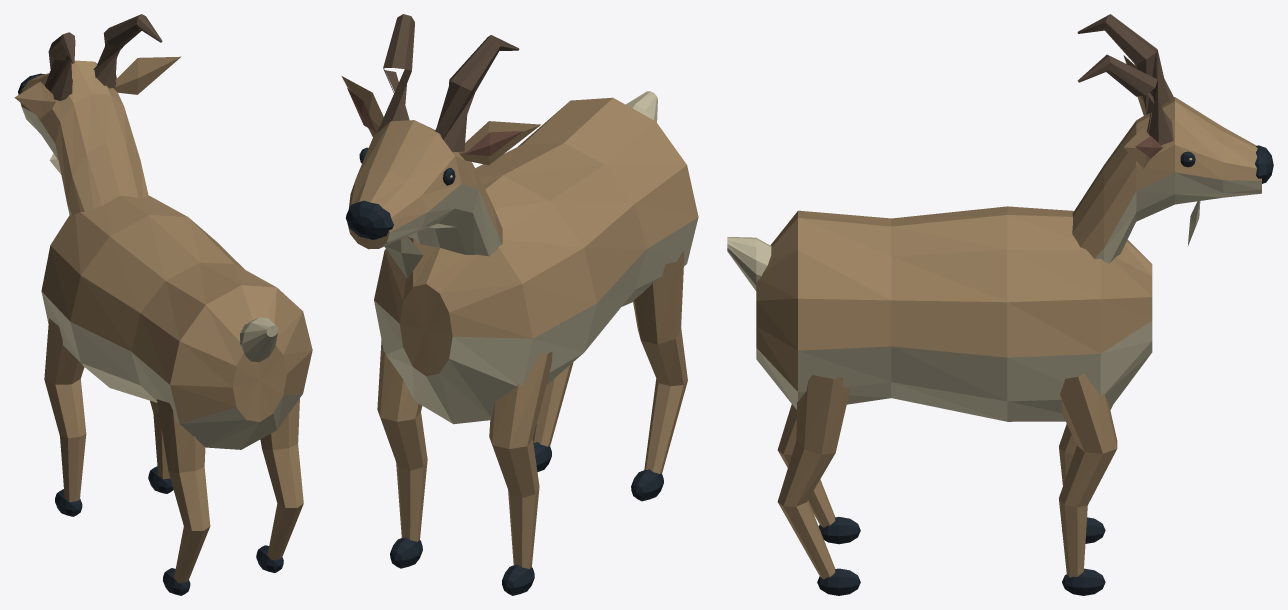
Rendered from goat.glb.
3 views of the same model, side by side, from view 1: azimuth 30°, elevation 25°; view 2: azimuth 150°, elevation 25°; view 3: azimuth 270°, elevation 25° (orthographic). The views are drawn at different scales.
Visible parts, largest first — view 1: Body, Head, Leg2, Leg0, Leg3, Tail, Leg1; view 2: Body, Head, Leg2, Leg0, Leg1, Leg3, Tail; view 3: Body, Head, Leg3, Leg1, Leg2, Tail, Leg0.
Part boxes in pixels (box(x1,y1,x2,y2)): Body: box(41, 195, 312, 449); Head: box(14, 14, 181, 215); Leg2: box(157, 399, 210, 595); Leg0: box(44, 318, 86, 516); Leg3: box(256, 398, 303, 572); Tail: box(240, 317, 278, 362); Leg1: box(148, 400, 173, 493); Body: box(374, 97, 698, 424); Head: box(341, 14, 540, 278); Leg2: box(631, 251, 687, 501); Leg0: box(489, 351, 552, 595); Leg1: box(377, 339, 427, 568); Leg3: box(533, 362, 573, 471); Tail: box(626, 91, 657, 122); Body: box(756, 206, 1152, 421); Head: box(1072, 14, 1273, 263); Leg3: box(777, 375, 860, 595); Leg1: box(1059, 373, 1117, 595); Leg2: box(777, 404, 860, 544); Tail: box(727, 237, 771, 290); Leg0: box(1059, 405, 1112, 543).
Bounding box in the file's own units: 0.68 × 1.83 × 1.7.
